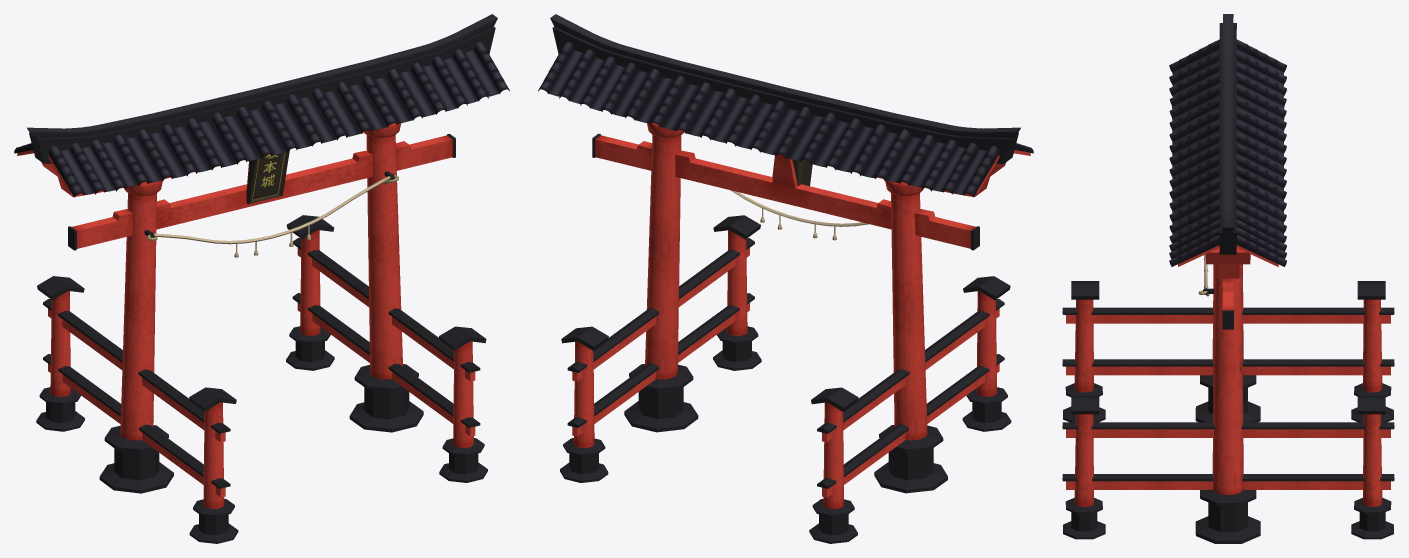
The model's file is puerta_Torii.fbx.
The picture shows the model from 3 angles, left to right: view 1: azimuth 30°, elevation 25°; view 2: azimuth 150°, elevation 25°; view 3: azimuth 270°, elevation 25°; orthographic projection. The views are drawn at different scales.
Visible parts, largest first — view 1: Cylinder.005, Cylinder.001, Cylinder.003, Cylinder.008, Cylinder.002, Cube.003, Cube.001, Cube.002, Cube.004, Cylinder.004, Cuerda; view 2: Cylinder.005, Cylinder.001, Cylinder.003, Cylinder.008, Cylinder.002, Cube.002, Cube.004, Cube.001, Cube.003, Cylinder.004; view 3: Cylinder.005, Cylinder.003, Cube.004, Cube.003, Cube.002, Cube.001, Cylinder.008, Cylinder.001, Cylinder.007, Cylinder.002.
Boxes of the visible parts, box(x1,y1,x2,y2) form: Cylinder.005: box(14, 42, 509, 197); Cylinder.001: box(99, 180, 173, 493); Cylinder.003: box(349, 123, 423, 432); Cylinder.008: box(27, 14, 497, 163); Cylinder.002: box(68, 133, 455, 250); Cube.003: box(388, 308, 487, 482); Cube.001: box(138, 369, 238, 543); Cube.002: box(36, 276, 122, 431); Cube.004: box(286, 215, 369, 370); Cylinder.004: box(246, 150, 289, 204); Cuerda: box(147, 175, 399, 244); Cylinder.005: box(538, 42, 1033, 197); Cylinder.001: box(874, 180, 947, 493); Cylinder.003: box(624, 123, 698, 432); Cylinder.008: box(550, 14, 1020, 163); Cylinder.002: box(592, 133, 979, 250); Cube.002: box(809, 369, 909, 543); Cube.004: box(560, 308, 659, 482); Cube.001: box(925, 276, 1011, 431); Cube.003: box(678, 215, 761, 370); Cylinder.004: box(772, 154, 812, 187); Cylinder.005: box(1169, 39, 1286, 266); Cylinder.003: box(1195, 264, 1260, 543); Cube.004: box(1241, 395, 1394, 539); Cube.003: box(1062, 395, 1215, 539); Cube.002: box(1242, 281, 1394, 422); Cube.001: box(1062, 281, 1213, 422); Cylinder.008: box(1219, 14, 1236, 254); Cylinder.001: box(1195, 264, 1260, 422); Cylinder.007: box(1205, 248, 1250, 264); Cylinder.002: box(1222, 280, 1233, 329).
Size of the model in its own units: 2371 by 1821 by 1556.
